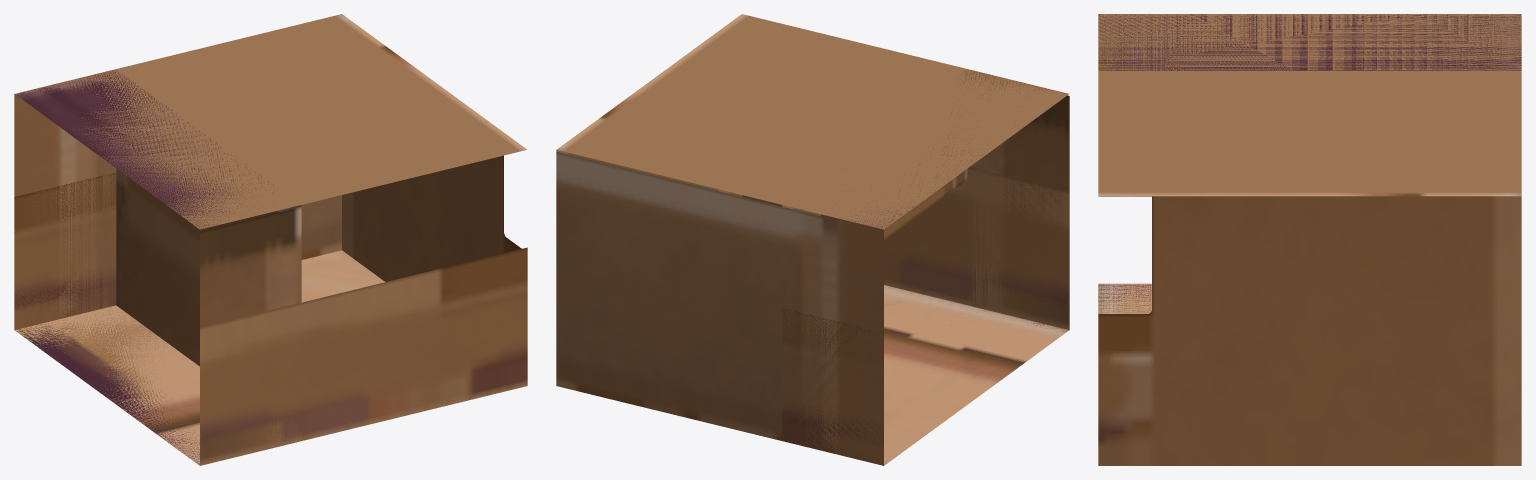
File: section-7.obj
The picture shows the model from 3 angles, left to right: view 1: azimuth 30°, elevation 25°; view 2: azimuth 150°, elevation 25°; view 3: azimuth 270°, elevation 25°; orthographic projection. The views are drawn at different scales.
Bounding box in the file's own units: 0.993 × 0.6846 × 0.9741.
